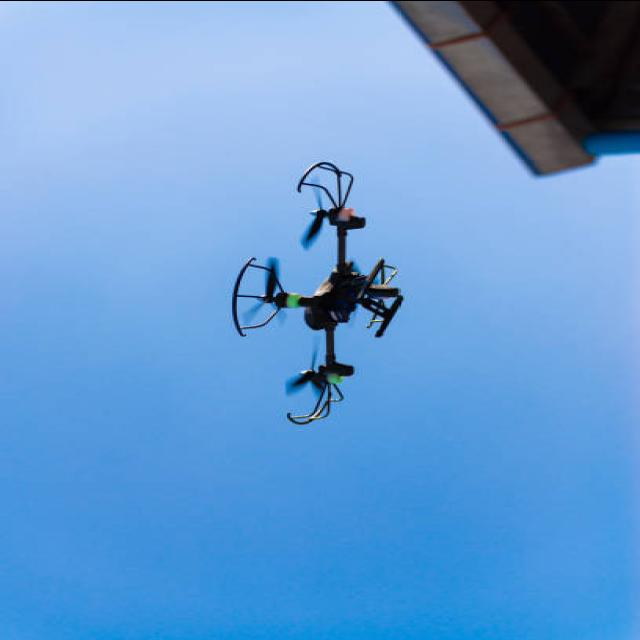drone: (229, 162, 405, 426)
